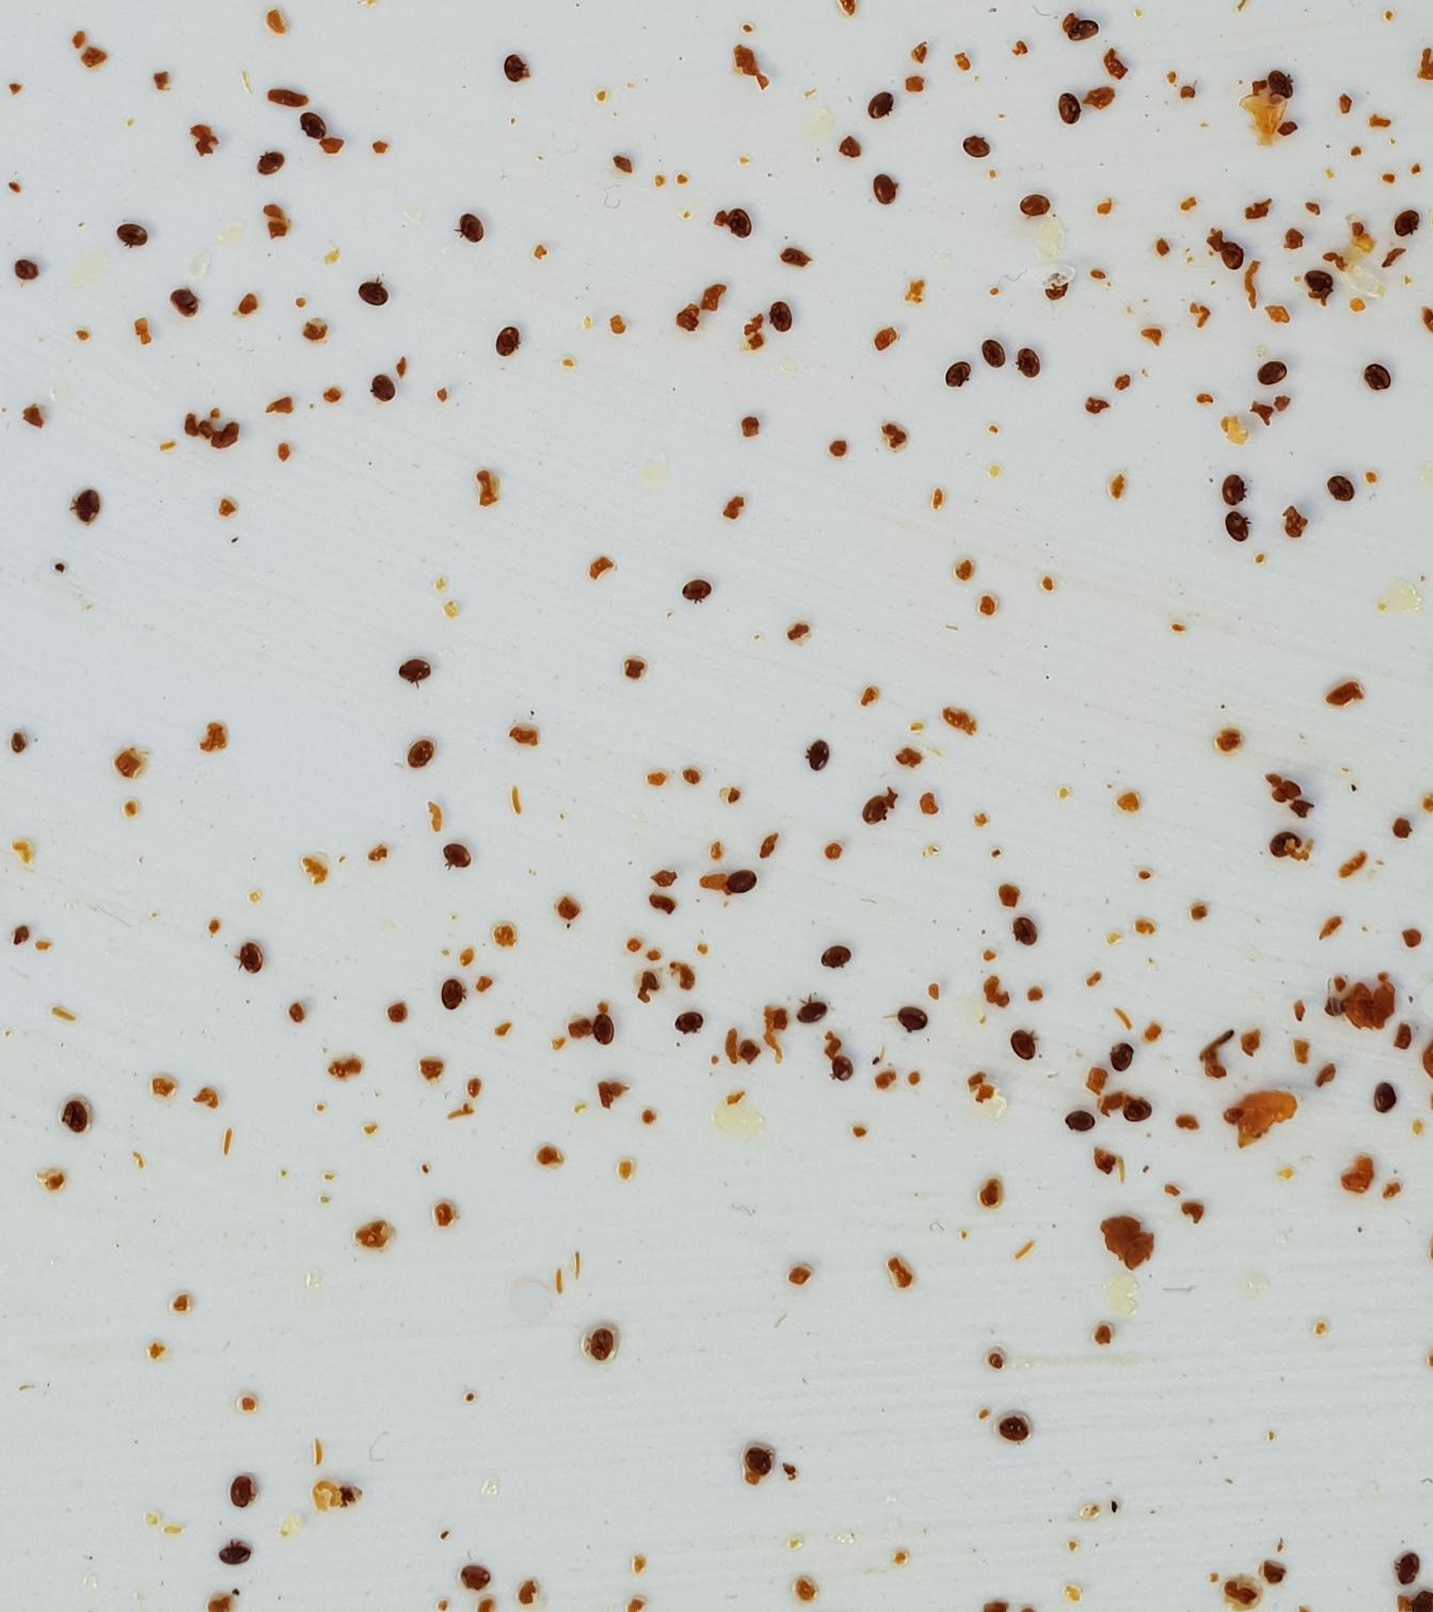Varroa: (1037, 268, 1078, 309), (221, 1476, 253, 1508), (1220, 244, 1249, 274), (403, 733, 432, 762), (804, 735, 831, 765), (999, 1416, 1026, 1446), (860, 791, 888, 821), (685, 577, 712, 605), (1266, 826, 1293, 854), (1326, 469, 1353, 498), (1069, 12, 1095, 42), (64, 1103, 90, 1130), (589, 1328, 616, 1356), (499, 53, 526, 80), (728, 210, 752, 239), (1398, 1550, 1427, 1575), (241, 946, 266, 974), (979, 335, 1004, 363), (829, 941, 855, 966), (371, 369, 396, 396), (1266, 66, 1291, 91), (871, 176, 896, 201), (1364, 1089, 1387, 1115), (1013, 1029, 1036, 1054), (866, 89, 889, 113), (1227, 516, 1252, 540), (1309, 268, 1332, 293), (304, 113, 328, 138), (1220, 473, 1244, 498), (15, 255, 37, 281), (770, 303, 793, 329), (1019, 347, 1043, 371), (459, 212, 481, 237), (1396, 209, 1418, 234), (495, 324, 517, 349), (362, 274, 383, 300), (444, 839, 468, 861), (122, 221, 144, 245), (895, 1009, 917, 1032), (1057, 95, 1079, 119), (732, 869, 755, 891), (1066, 1107, 1089, 1130), (746, 1445, 768, 1468), (1261, 357, 1284, 381), (833, 1059, 856, 1081), (1125, 1096, 1147, 1119), (174, 291, 195, 315), (465, 1564, 486, 1588), (1021, 919, 1042, 942), (1111, 1045, 1131, 1068), (77, 493, 98, 515), (679, 1011, 700, 1034), (443, 978, 462, 1002), (1025, 192, 1046, 213), (225, 1544, 245, 1566), (970, 137, 986, 154), (809, 1005, 824, 1020), (1369, 371, 1383, 385), (266, 156, 279, 170), (409, 661, 422, 677), (954, 367, 965, 379), (1386, 1090, 1396, 1103), (602, 1025, 611, 1038)
